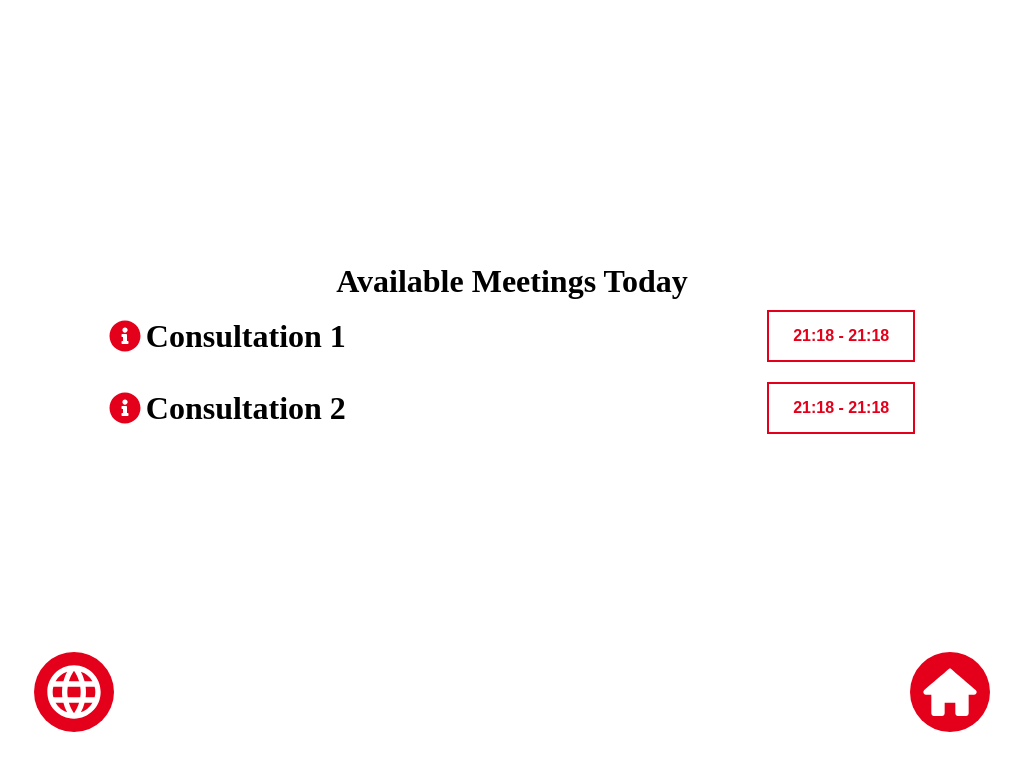
Scenario: opens info modal on info button click
Expected: the text "Consultation 1" is shown, [146,318,346,354]
Click the icon named "info" next to "Consultation 1" at [125, 336], box [109,320,141,352]
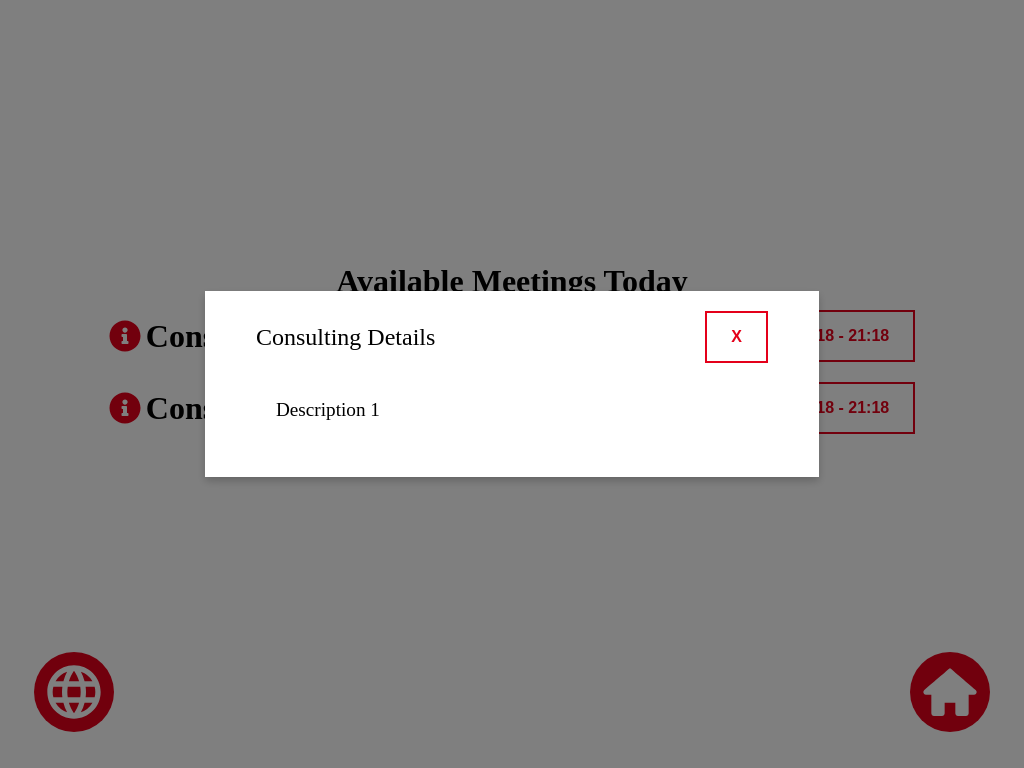
Result: the text "Description 1" is shown at [276,399,380,420]
